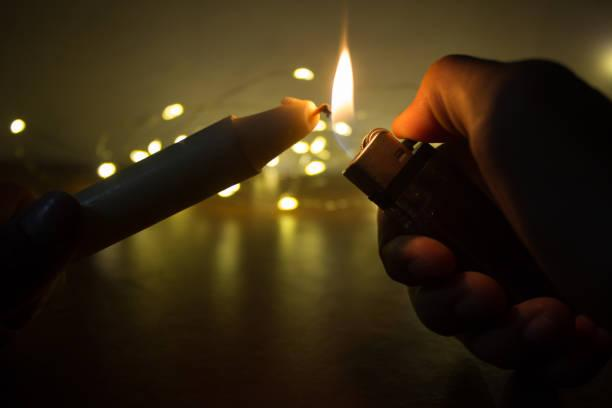Fire: (329, 26, 356, 153)
